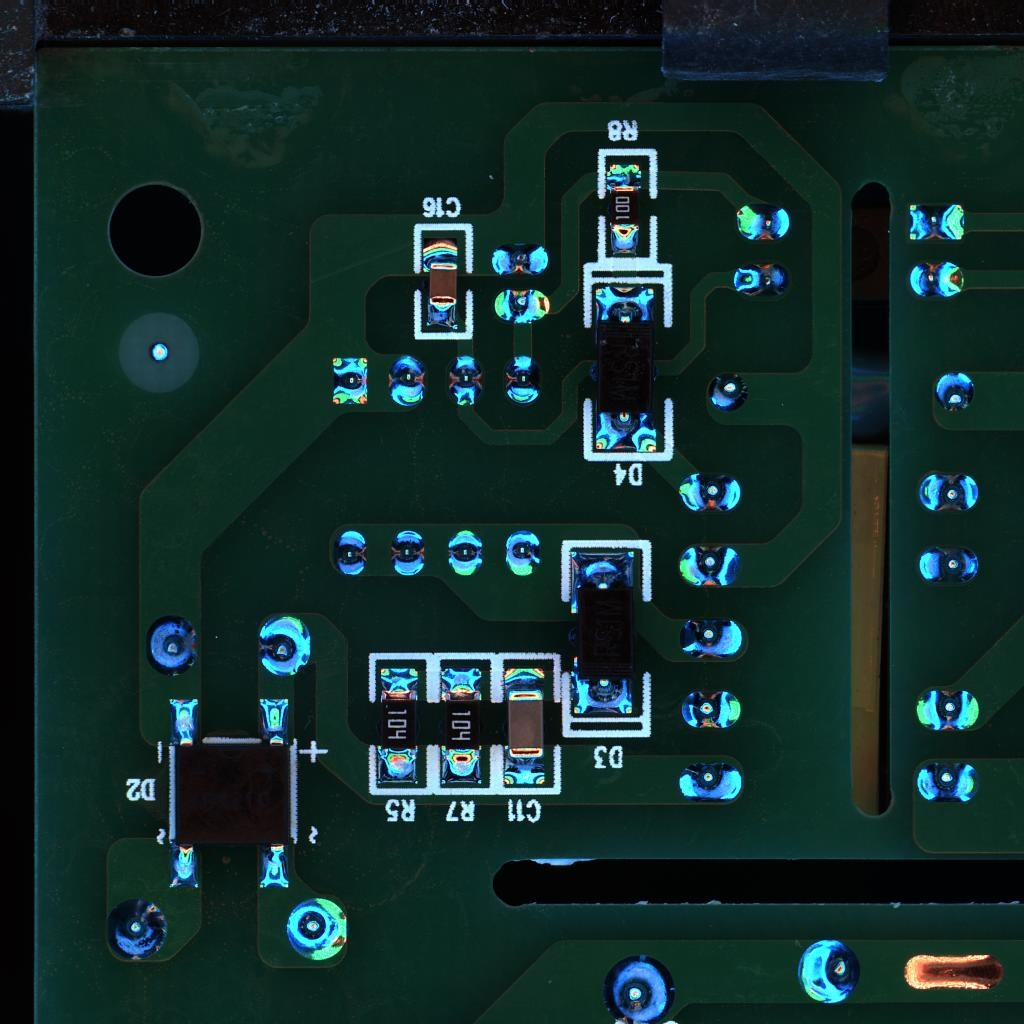spot: (601, 952, 678, 1024), (795, 936, 864, 1008), (283, 895, 351, 965), (102, 893, 167, 959), (258, 610, 310, 678), (145, 613, 199, 678), (675, 544, 745, 589), (911, 687, 982, 731), (914, 760, 984, 804), (676, 471, 745, 514), (677, 616, 745, 659), (675, 761, 745, 802), (914, 471, 979, 513), (916, 545, 981, 586), (678, 688, 743, 729), (906, 202, 967, 243), (386, 349, 427, 408), (907, 257, 967, 297), (491, 286, 554, 323), (445, 353, 483, 410), (501, 352, 543, 403), (488, 241, 549, 276), (503, 527, 544, 579), (329, 352, 367, 408), (445, 528, 485, 580), (704, 367, 749, 413), (734, 203, 788, 241), (731, 262, 791, 295), (933, 369, 977, 414), (388, 528, 427, 578), (333, 527, 371, 578)
